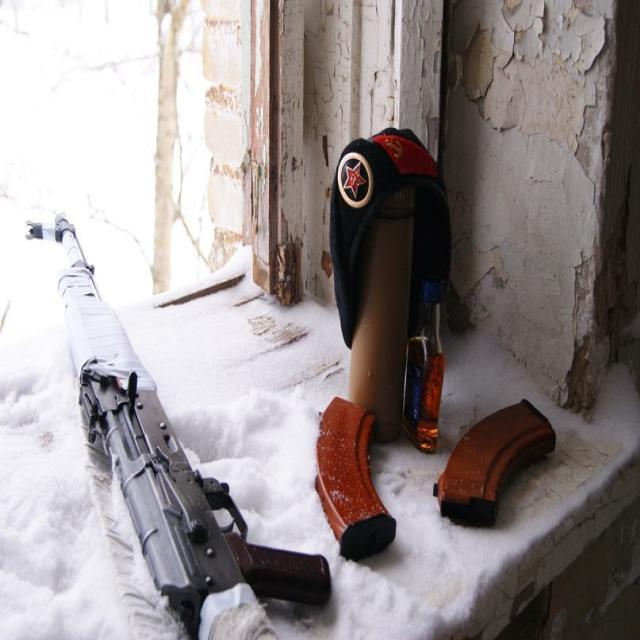firearm: (24, 209, 332, 640)
